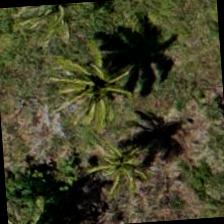Kelapa_Sawit: (67, 124, 163, 220), (52, 39, 148, 135), (5, 1, 99, 53)
